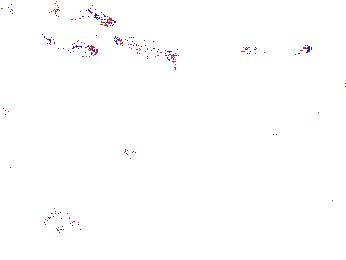X-ray fish: (43, 208, 80, 230)
glassfish: (1, 91, 104, 162)
red belly glassfish: (48, 37, 101, 58), (256, 127, 280, 145)
redtail glassfish: (112, 34, 181, 67), (242, 40, 313, 58), (123, 147, 186, 166)
